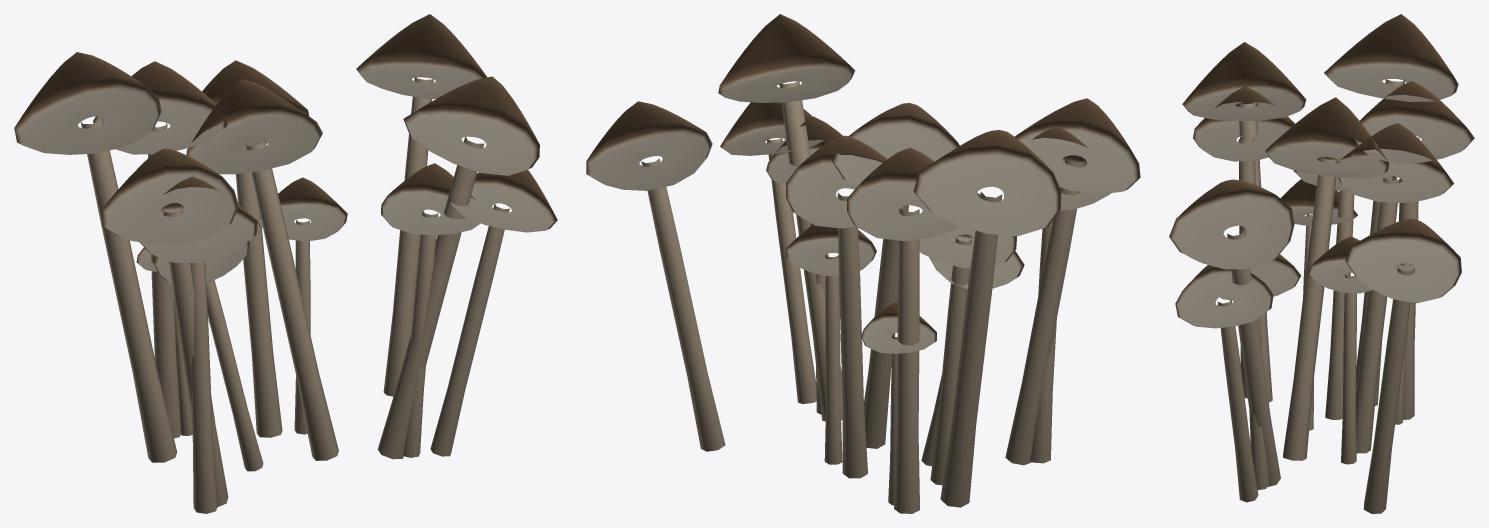
The model's file is mushroom-mycena-b.lod0.glb.
3 views of the same model, side by side, from view 1: azimuth 30°, elevation 25°; view 2: azimuth 150°, elevation 25°; view 3: azimuth 270°, elevation 25° (orthographic). The views are drawn at different scales.
Visible parts, largest first — view 1: mushroom-mycena-b.lod0; view 2: mushroom-mycena-b.lod0; view 3: mushroom-mycena-b.lod0.
Part boxes in pixels (<box>): mushroom-mycena-b.lod0: <box>14,14,557,513</box>; mushroom-mycena-b.lod0: <box>586,14,1140,513</box>; mushroom-mycena-b.lod0: <box>1169,14,1474,513</box>.
Bounding box in the file's own units: 0.0915 × 0.077 × 0.0586.
